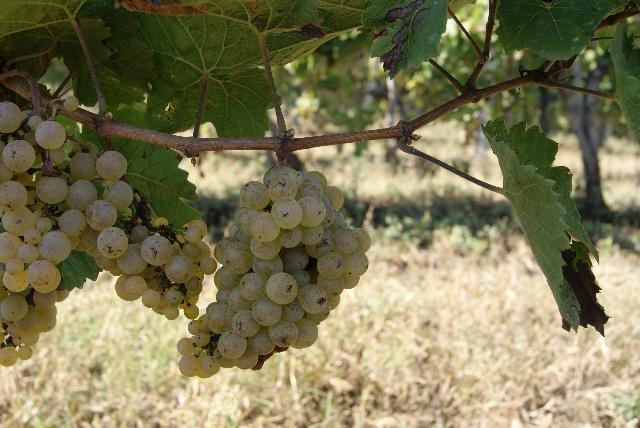grapes: (180, 166, 371, 376), (0, 101, 116, 365), (70, 150, 200, 320)
